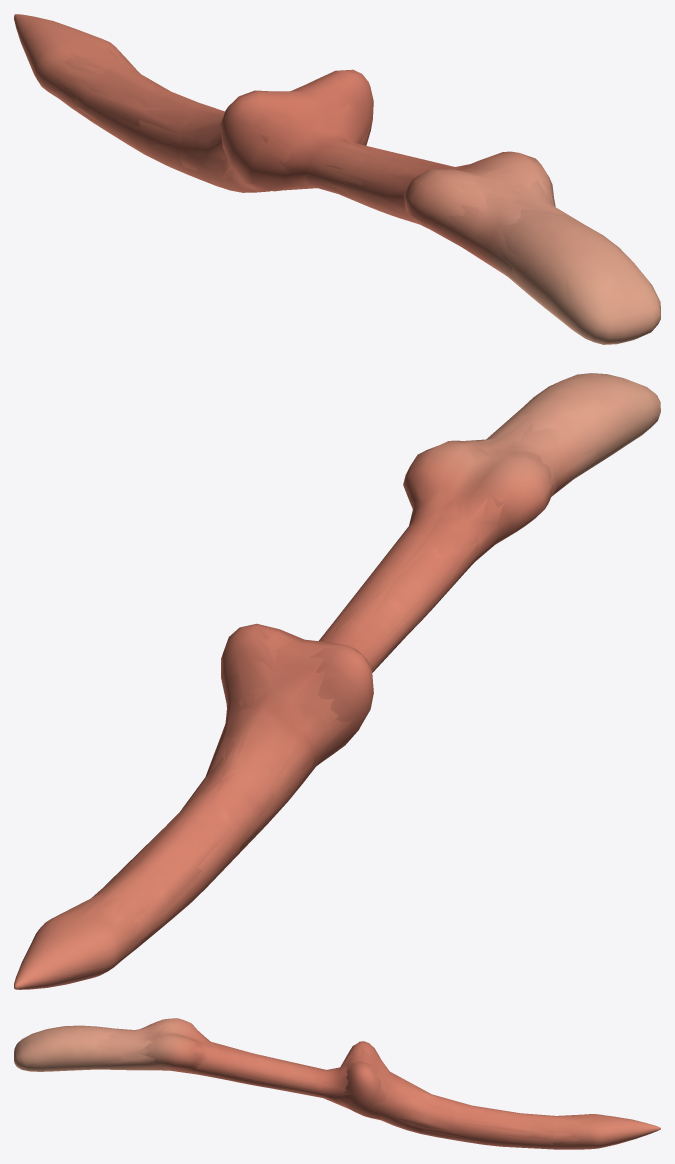
The model's file is Penis.fbx.
3 views of the same model, one above another, from view 1: azimuth 30°, elevation 25°; view 2: azimuth 150°, elevation 25°; view 3: azimuth 270°, elevation 25° (orthographic). The views are drawn at different scales.
Parts seen in each view (by area): view 1: Penis high, Penis low, Penis; view 2: Penis high, Penis low, Penis; view 3: Penis high, Penis low, Penis.
Part boxes in pixels (bbox=[...]): Penis high: bbox=[14, 14, 660, 344]; Penis low: bbox=[62, 48, 584, 283]; Penis: bbox=[15, 14, 659, 344]; Penis high: bbox=[14, 373, 660, 989]; Penis low: bbox=[69, 409, 602, 943]; Penis: bbox=[14, 373, 660, 989]; Penis high: bbox=[14, 1018, 660, 1149]; Penis low: bbox=[84, 1027, 584, 1144]; Penis: bbox=[14, 1019, 660, 1148].
Size of the model in its own units: 0.5574 by 0.8372 by 4.12.
Materials: 1 (1 with a texture image).
